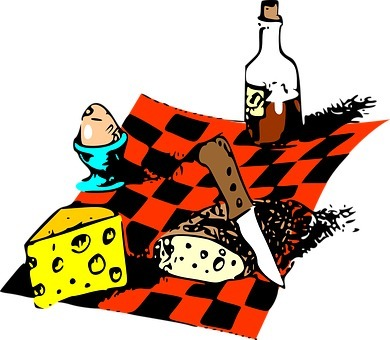bottle: (230, 11, 312, 145)
